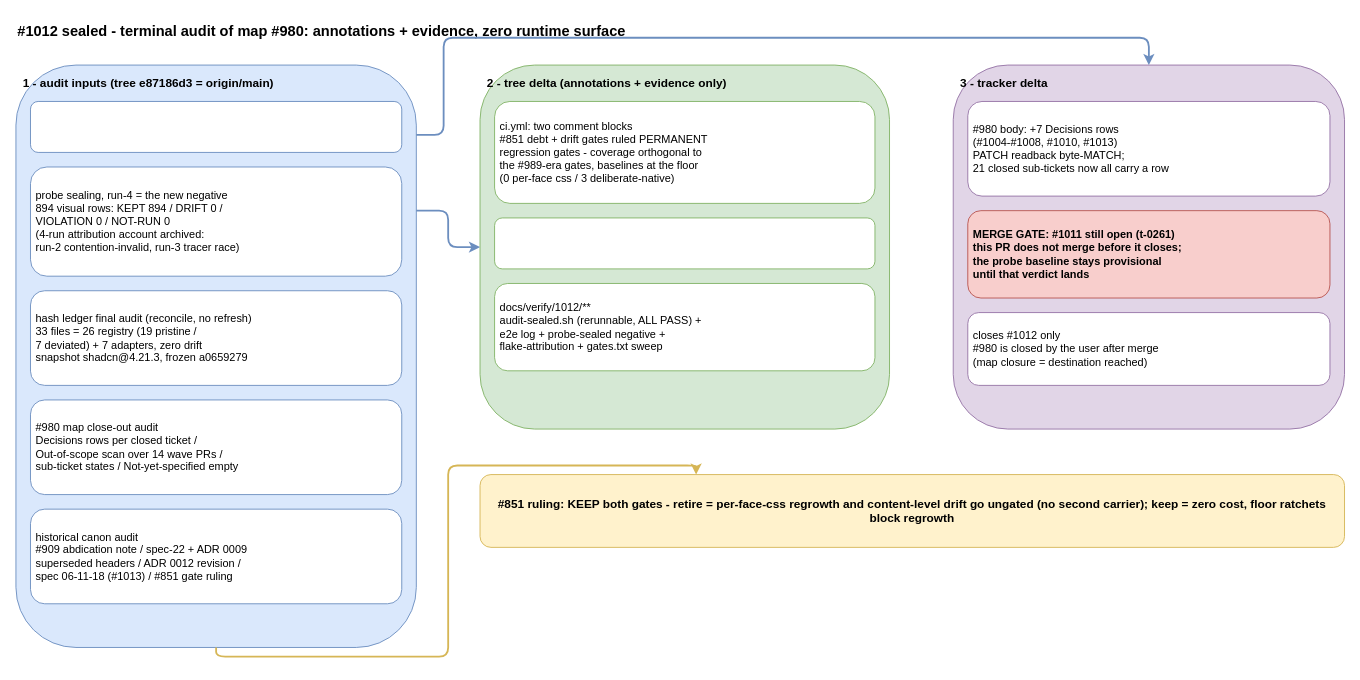
The diagram is 1360 pixels wide and 680 high, and some of its shapes have lost their labels. Each missing label, with the centre of its shape:
"full local e2e 862 / 862 green (5.3m, port 8399)" belongs at (x=216, y=126).
"ui-debt-gate.mjs header construction-period brake -> standing ratchet" belongs at (x=684, y=243).
